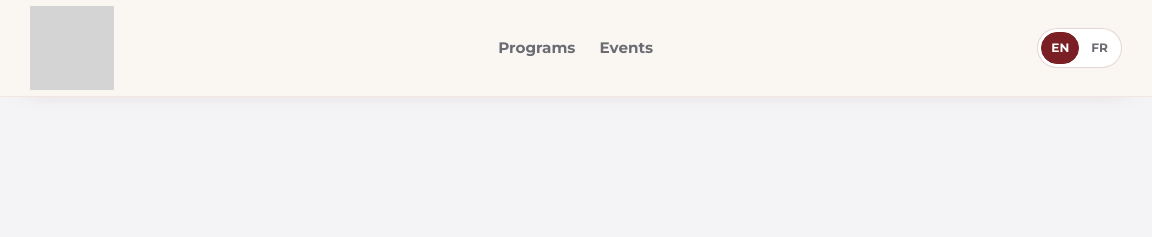
Test case: SiteHeader › opens the desktop submenu on hover and reveals nested items in a right-side flyout
Expected: the link "healing services" is not shown
Hover over the element showing "Programs": coordinates (537, 48) [498,38,576,57]
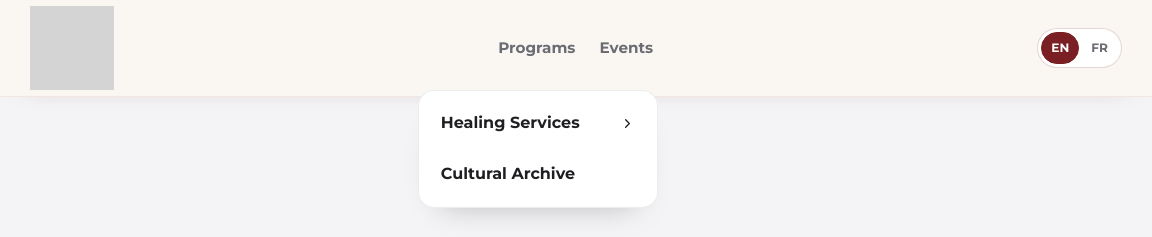
Expected: the link "Healing Services" is shown, [441,113,635,132]
Expected: the link "Cultural Archive" is shown, [441,164,575,183]
